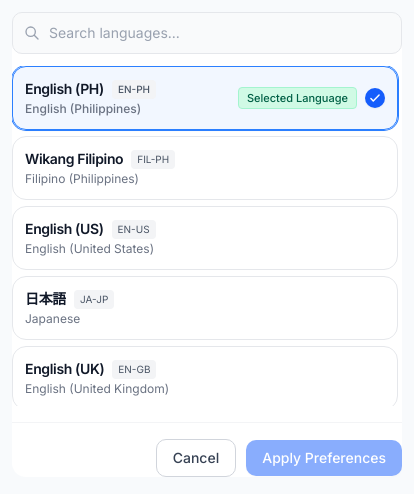
it: RENTipid GLCC v1.0.1 — Work Package P7: Language Selector UX Suite › 3. Search UX & Result Governance › supports search by locale tag code
The image size is (414, 494).
Type "fil-ph" into the search field.
click(207, 33); type("fil-ph")  # box [12, 12, 402, 54]
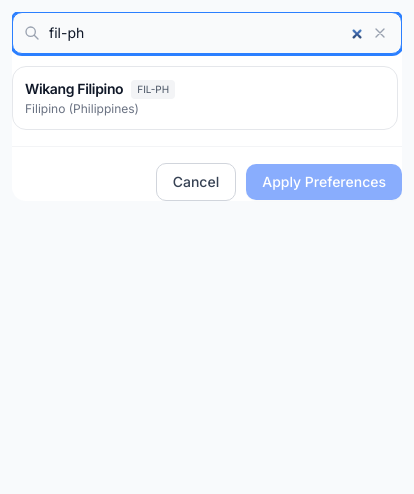
Expected: the text "Wikang Filipino" is shown, [25, 79, 123, 99]
Now the option "English (Philippines)" is gone
